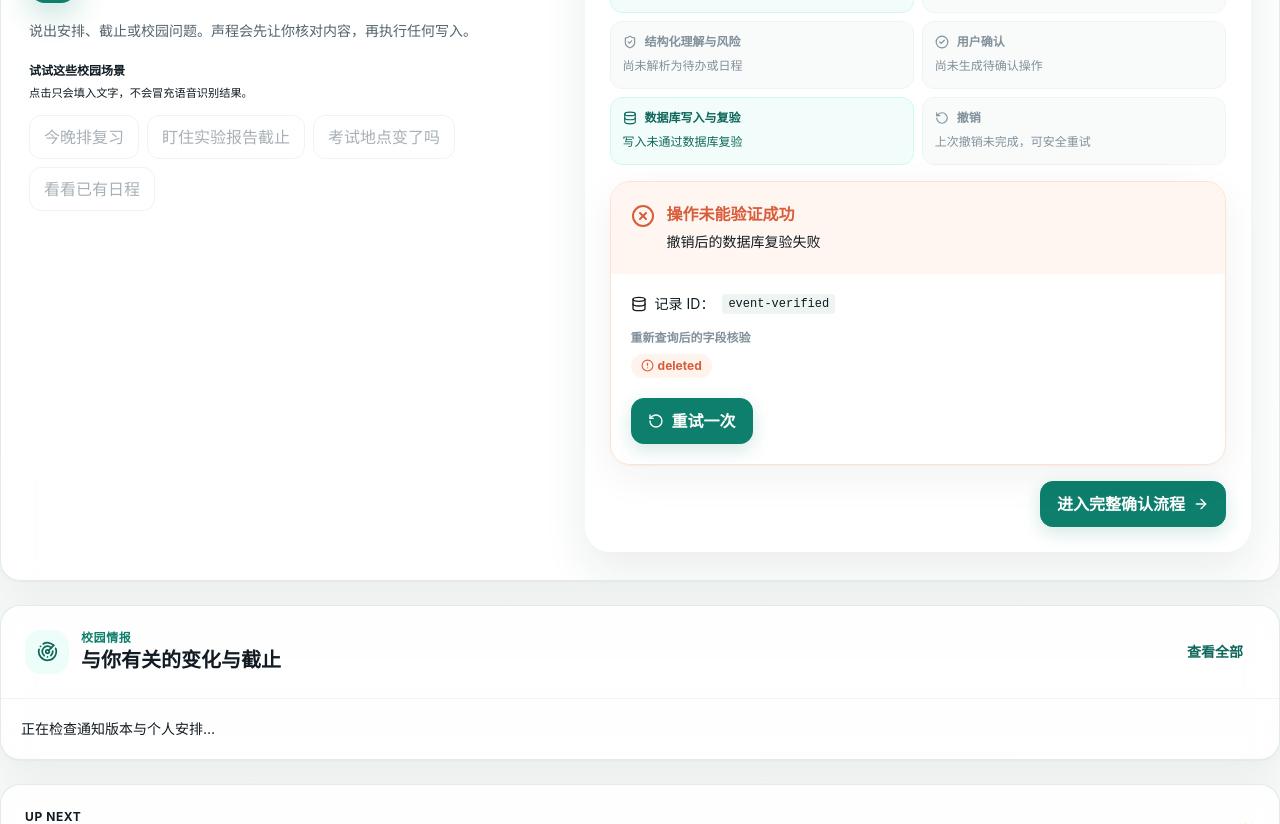
it: dashboard business states › retries a recoverable undo verification failure from Home with the same action id
The width and height of the screenshot is (1280, 824).
(page scrolled)
Click the button "重试一次": x=692, y=421 [631,398,753,444]
(page scrolled)
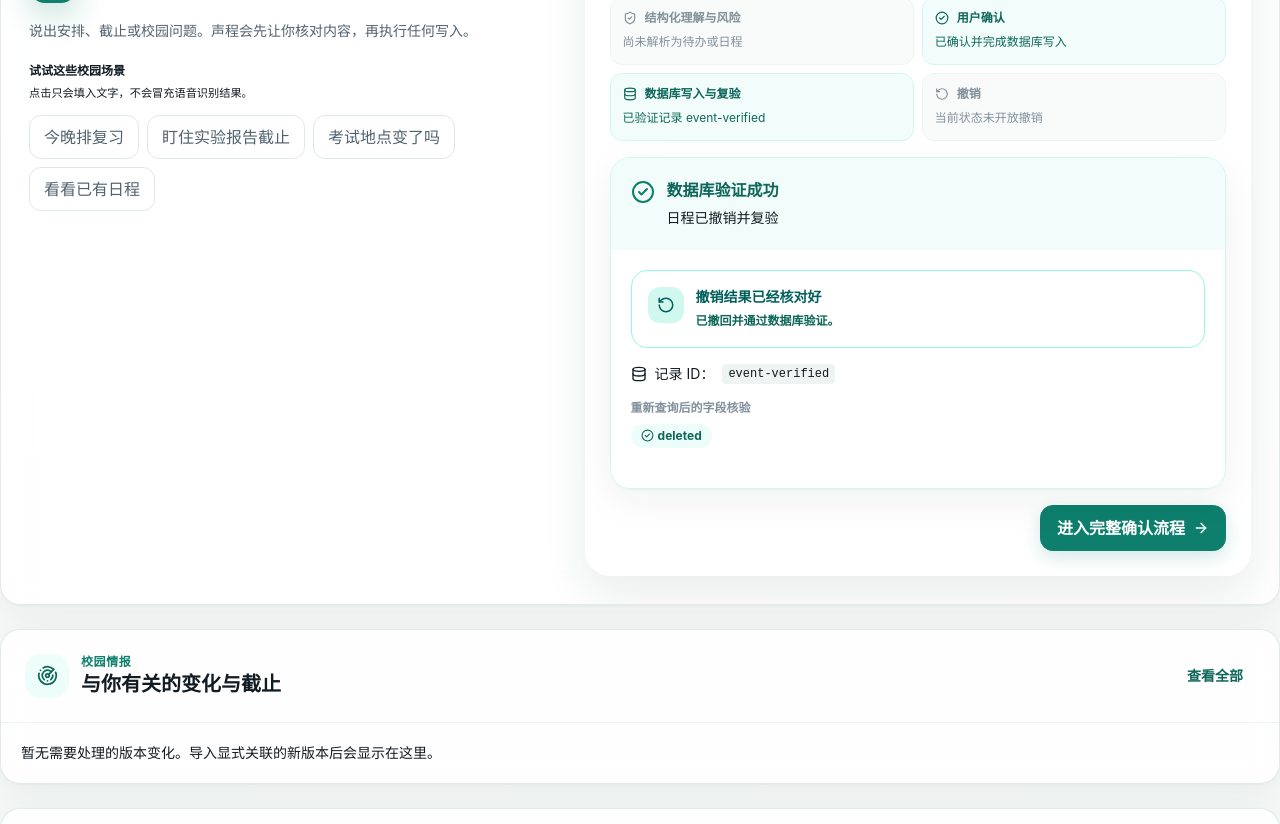
Expected: the text "日程已撤销并复验" is shown, [667,206,779,230]
